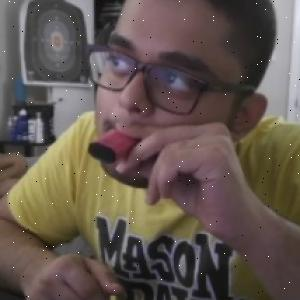Blume-E-Ciggirate: (86, 127, 135, 166)
